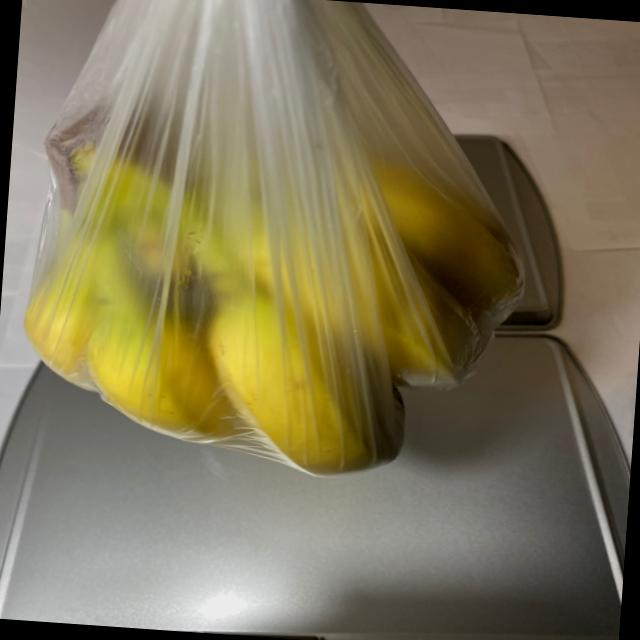banana: (13, 72, 553, 490)
